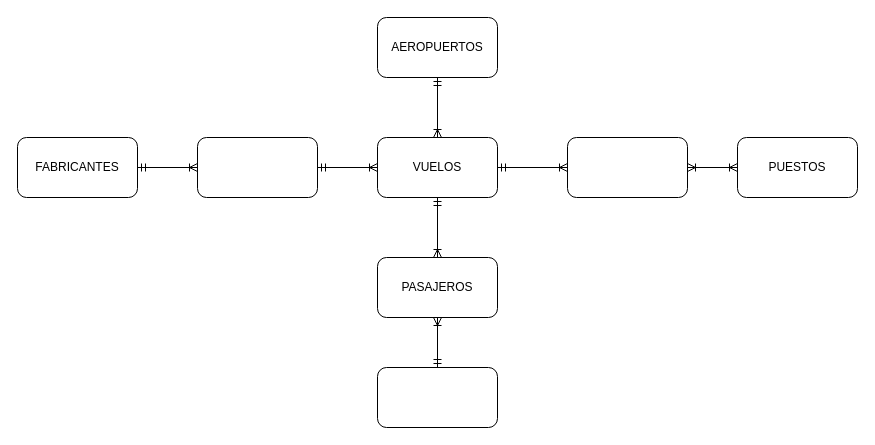
Image size: 875x445. Some labels were removed from this diagram. The shapes that lost their labels are listed below. From the top down, each one's centre as x and y in pixels, then its label:
At [257,167]: "AVIONES".
At [627,167]: "TRIPULACION".
At [437,397]: "CLASES".
